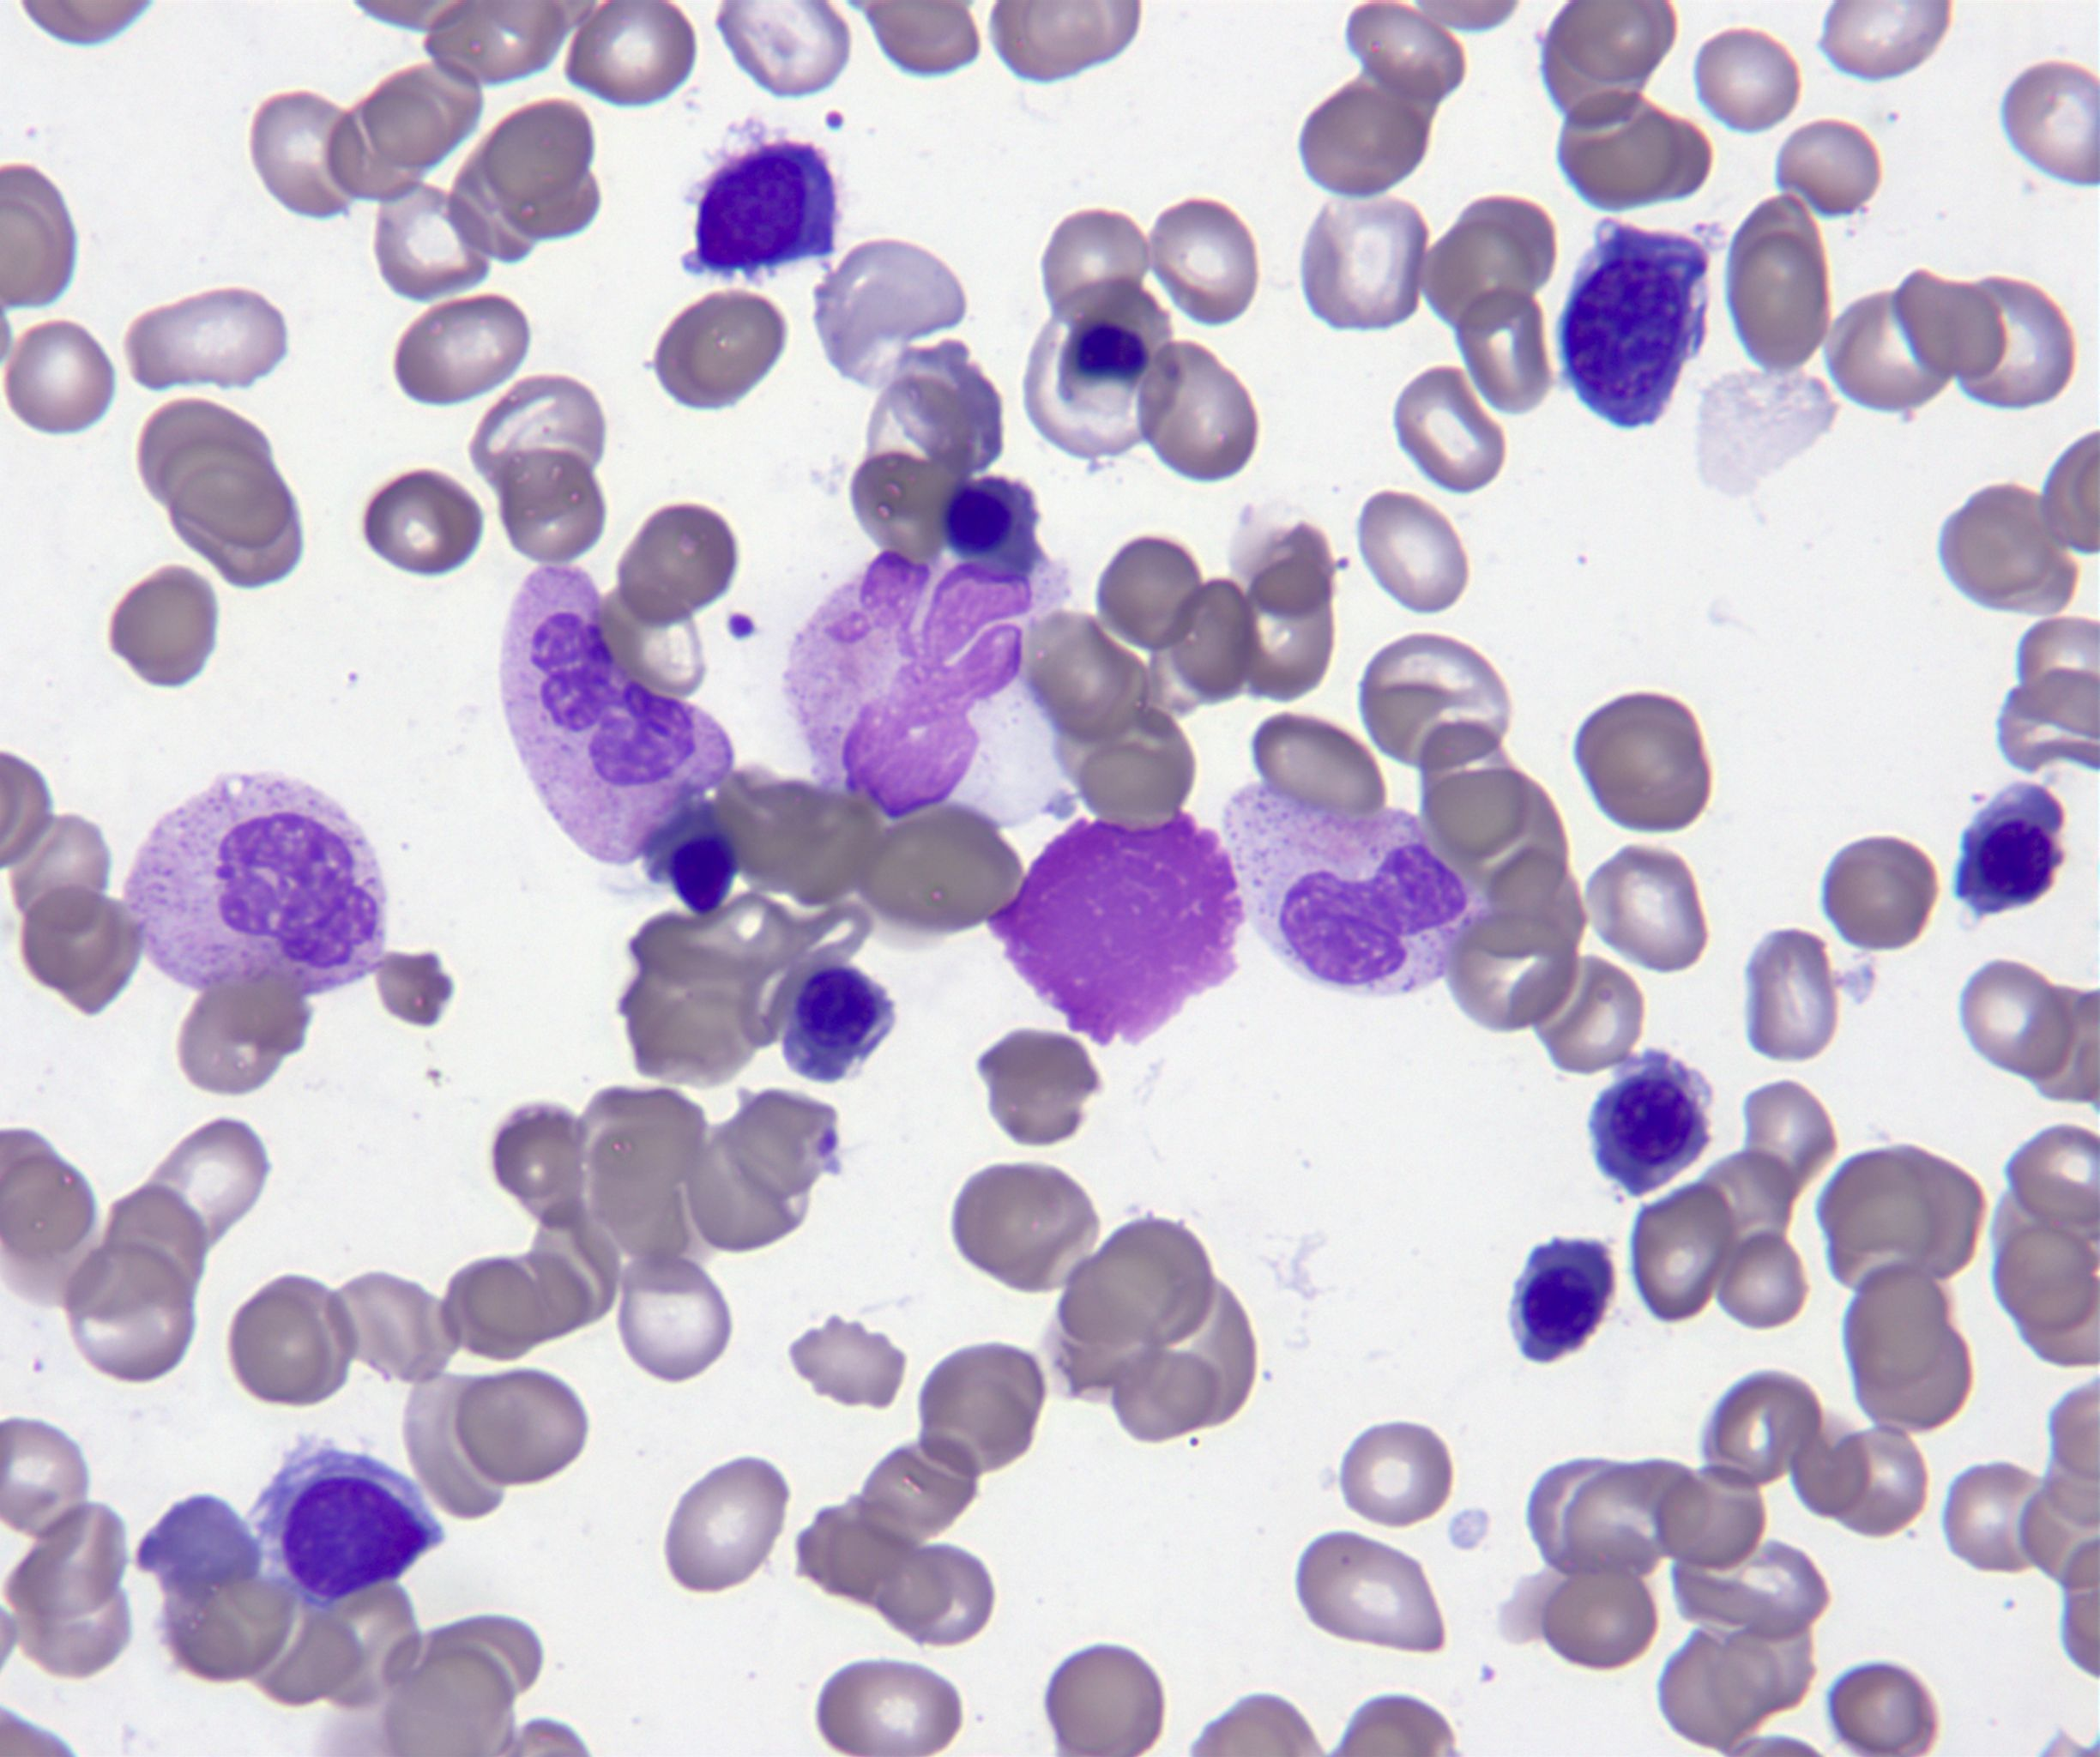23: (241, 1441, 447, 1607), (1558, 216, 1711, 426), (684, 134, 839, 276)
24: (1587, 1047, 1715, 1195), (1953, 782, 2072, 925), (778, 954, 897, 1085), (1507, 1234, 1613, 1364), (640, 787, 738, 916), (942, 478, 1047, 583), (1057, 319, 1149, 420)
5: (1224, 780, 1476, 995)
6: (785, 550, 1083, 824), (495, 564, 734, 867), (126, 773, 387, 998)
x: (987, 811, 1240, 1045)
